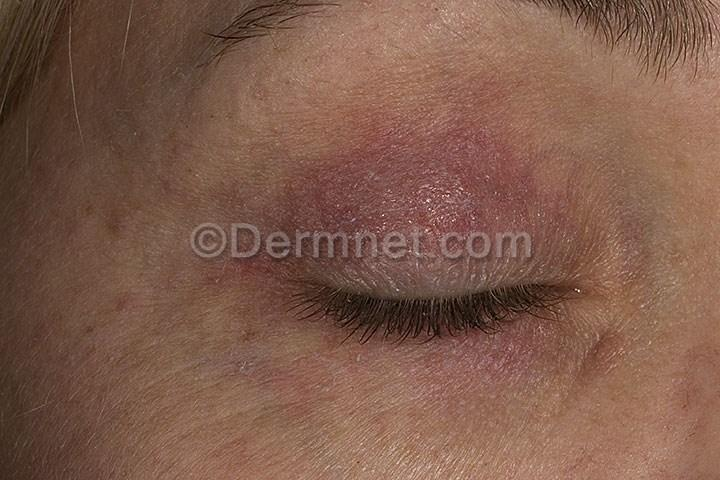Eczema: (360, 349, 446, 434), (210, 309, 285, 403), (445, 342, 514, 428), (291, 338, 353, 429), (524, 194, 588, 276), (343, 62, 423, 122), (601, 232, 663, 309), (332, 214, 396, 286), (421, 152, 493, 216), (430, 212, 494, 282), (520, 328, 582, 399), (416, 87, 484, 151), (386, 218, 447, 287), (278, 168, 367, 214), (181, 235, 237, 304), (572, 431, 647, 480), (83, 193, 143, 253), (582, 302, 630, 374), (360, 156, 426, 208), (496, 146, 547, 213), (206, 413, 258, 478), (92, 263, 146, 322), (279, 217, 333, 272), (680, 328, 713, 417), (486, 214, 528, 279), (484, 94, 533, 146), (307, 128, 373, 162), (380, 114, 427, 160)
